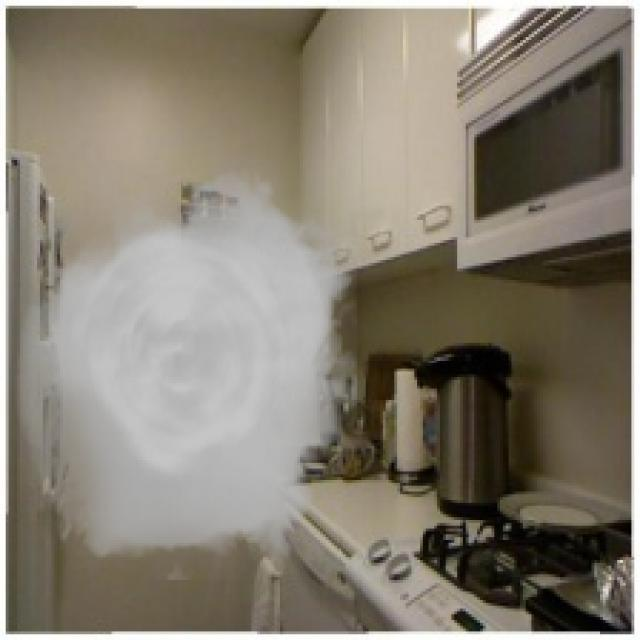Smoke: (14, 157, 357, 580)
